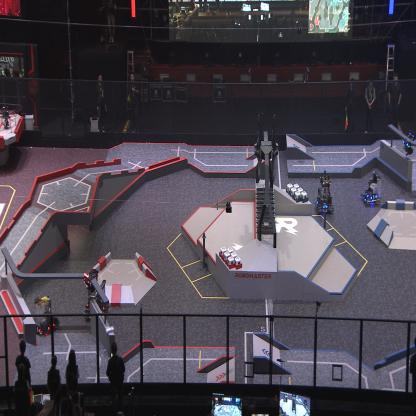car: (33, 294, 59, 338), (84, 278, 109, 322), (314, 173, 334, 215), (361, 171, 381, 206)
